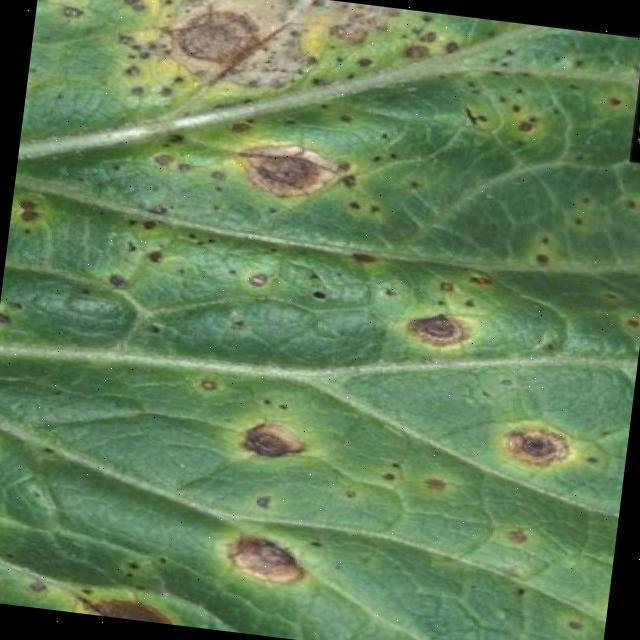Bacterial: (78, 0, 631, 621)
